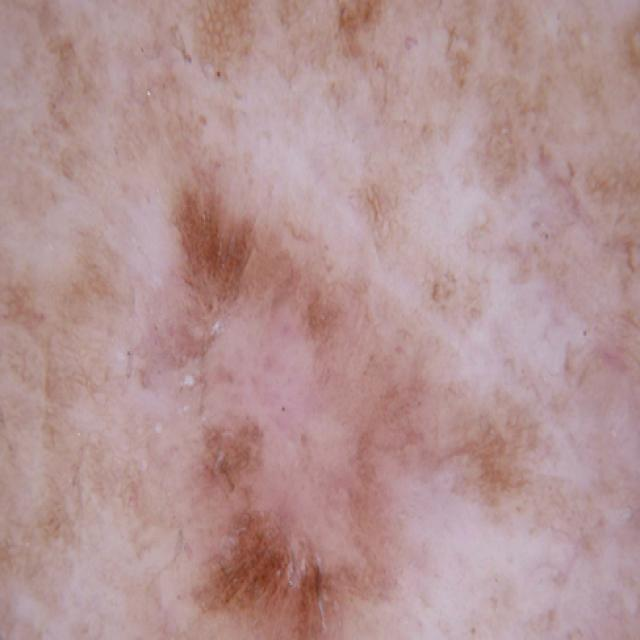Carcinoma: (126, 127, 542, 640)
